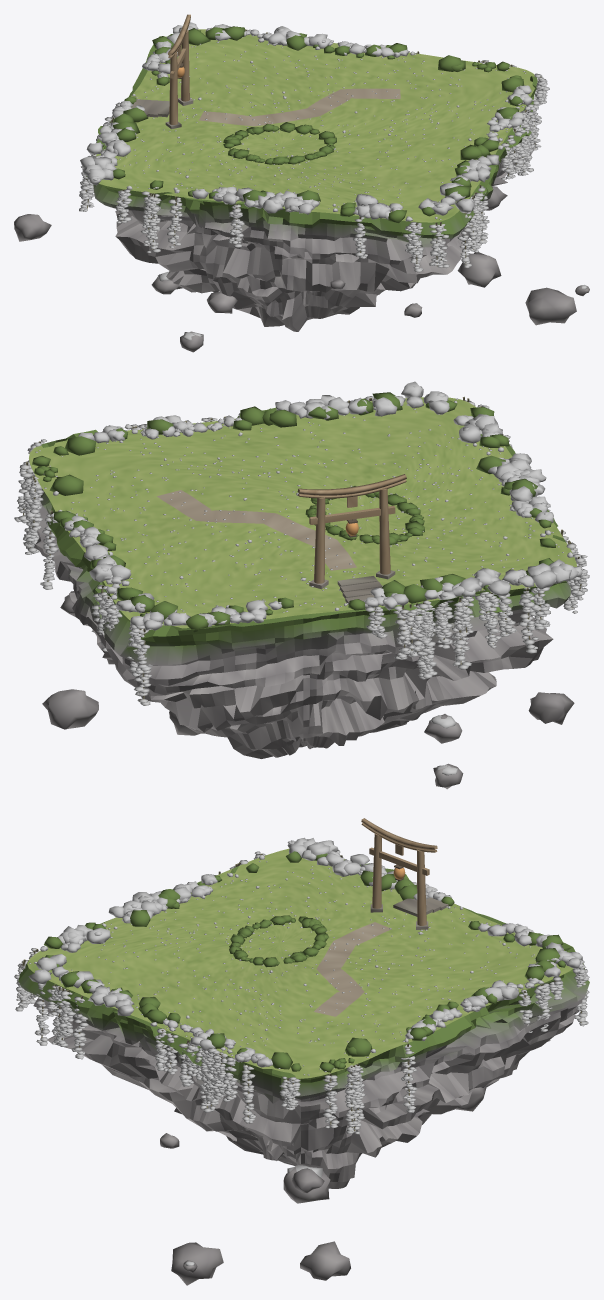
Rendered from meadow.glb.
3 renders of one model, top to bottom at view 1: azimuth 30°, elevation 25°; view 2: azimuth 150°, elevation 25°; view 3: azimuth 270°, elevation 25°, orthographic. The views are drawn at different scales.
Visible parts, largest first — view 1: Island, RimShrubs, ScatterRocks, VineLeaves, FloatRock, Path, Flowers, Torii, ToriiSteps; view 2: Island, RimShrubs, VineLeaves, ScatterRocks, FloatRock, Torii, Path, Flowers, ToriiSteps, VineStems; view 3: Island, VineLeaves, RimShrubs, ScatterRocks, FloatRock, Torii, Path, Flowers.
Part boxes in pixels (bbox=[...]): Island: bbox=[93, 29, 537, 331]; RimShrubs: bbox=[80, 22, 532, 221]; ScatterRocks: bbox=[86, 26, 524, 222]; VineLeaves: bbox=[79, 25, 549, 272]; FloatRock: bbox=[14, 186, 589, 352]; Path: bbox=[199, 88, 400, 126]; Flowers: bbox=[104, 35, 526, 219]; Torii: bbox=[165, 14, 193, 129]; ToriiSteps: bbox=[132, 99, 169, 117]; Island: bbox=[29, 397, 576, 758]; RimShrubs: bbox=[52, 381, 582, 630]; VineLeaves: bbox=[14, 396, 589, 705]; ScatterRocks: bbox=[32, 392, 566, 632]; FloatRock: bbox=[42, 591, 574, 789]; Torii: bbox=[297, 474, 406, 589]; Path: bbox=[157, 490, 356, 570]; Flowers: bbox=[35, 398, 563, 625]; ToriiSteps: bbox=[337, 576, 382, 604]; VineStems: bbox=[23, 396, 581, 699]; Island: bbox=[18, 848, 589, 1188]; VineLeaves: bbox=[14, 850, 589, 1134]; RimShrubs: bbox=[28, 837, 582, 1067]; ScatterRocks: bbox=[44, 851, 565, 1072]; FloatRock: bbox=[160, 1086, 486, 1285]; Torii: bbox=[361, 818, 437, 929]; Path: bbox=[314, 922, 391, 1016]; Flowers: bbox=[29, 861, 535, 1075].
Bounding box in the file's own units: 30.34 × 17.19 × 29.25.
